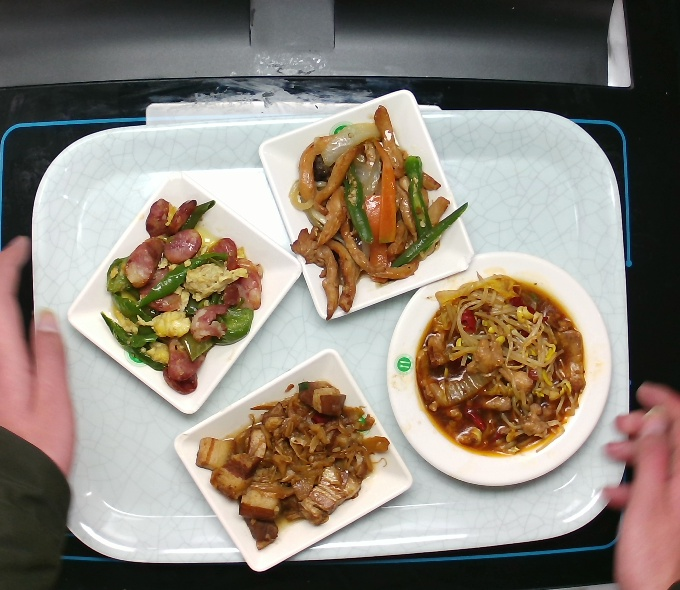wcq-HongShaoRou: (192, 376, 396, 552)
wcq-QingJiaoJiDanChaoDaChang: (96, 192, 269, 402)
wcq-QingJiaoRouSi: (284, 100, 471, 324)
wcq-ShuiZhuRouPian: (404, 259, 593, 465)
